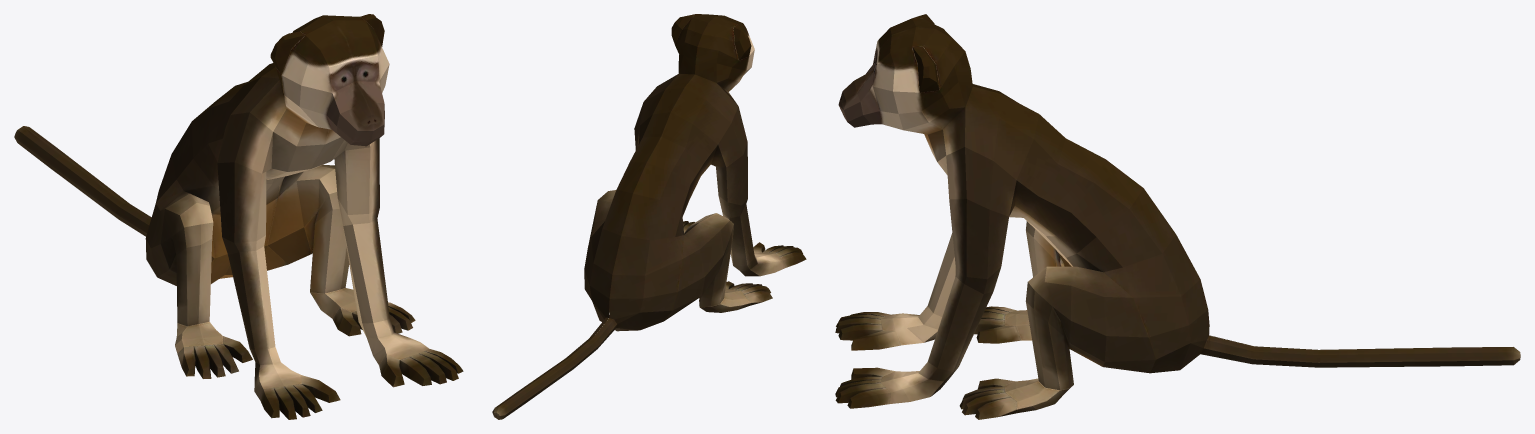
The model's file is Monkey.glb.
3 views of the same model, side by side, from view 1: azimuth 30°, elevation 25°; view 2: azimuth 150°, elevation 25°; view 3: azimuth 270°, elevation 25° (orthographic). The views are drawn at different scales.
Parts seen in each view (by area): view 1: Monkey_mesh; view 2: Monkey_mesh; view 3: Monkey_mesh.
Part boxes in pixels (x1=…): Monkey_mesh: x1=14, y1=14, x2=463, y2=419; Monkey_mesh: x1=492, y1=14, x2=806, y2=419; Monkey_mesh: x1=835, y1=14, x2=1520, y2=419.
Bounding box in the file's own units: 3.06 × 4.49 × 8.2.
Materials: 1 (1 with a texture image).
